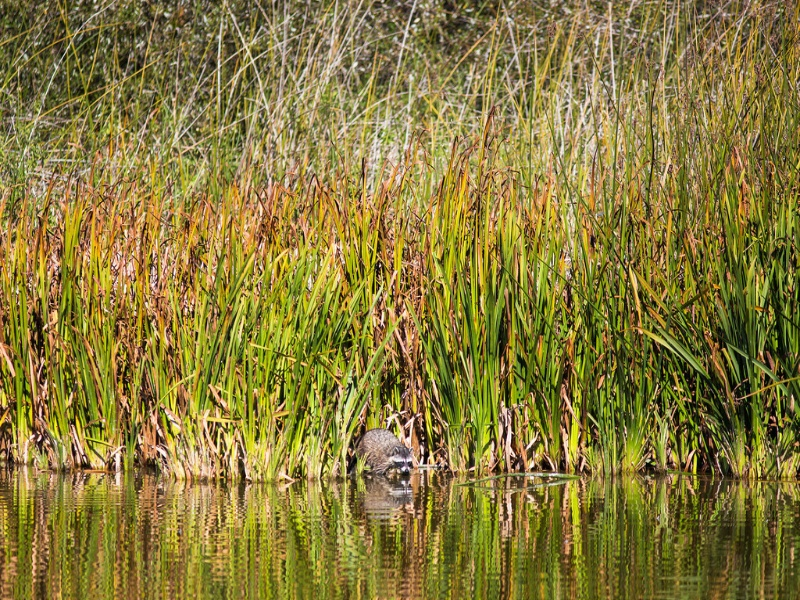raccoon: (348, 425, 420, 486)
